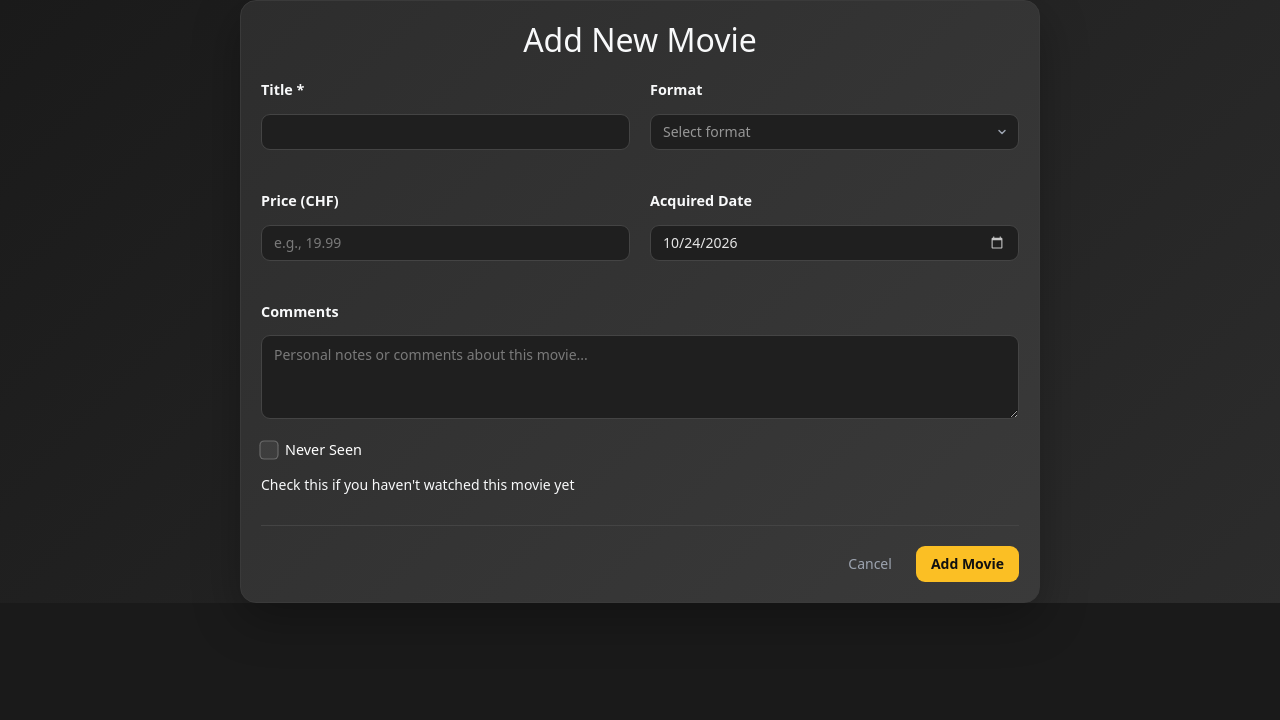
Test: MovieForm › should show error message on API failure
Type "Test Movie" into the field labelled "Title *" at (446, 132), box [261,114,630,150]
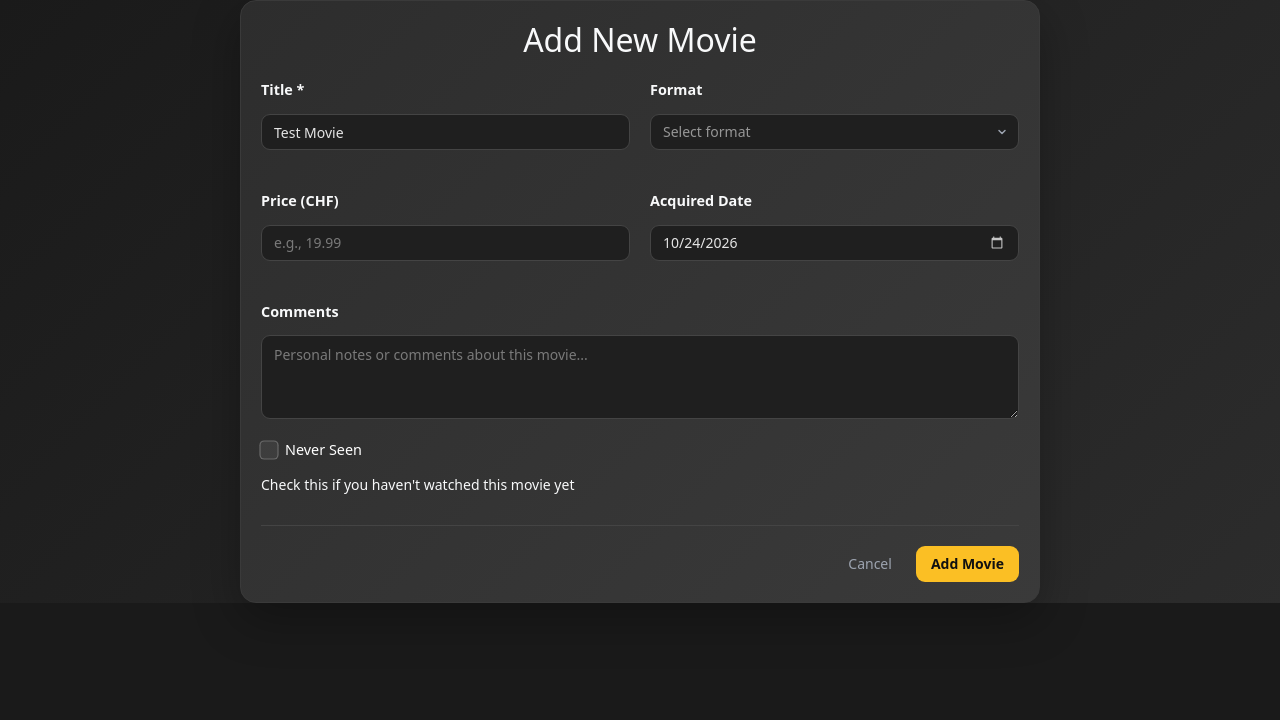
Click the button "Add Movie" at (967, 564), box [916,546,1019,582]
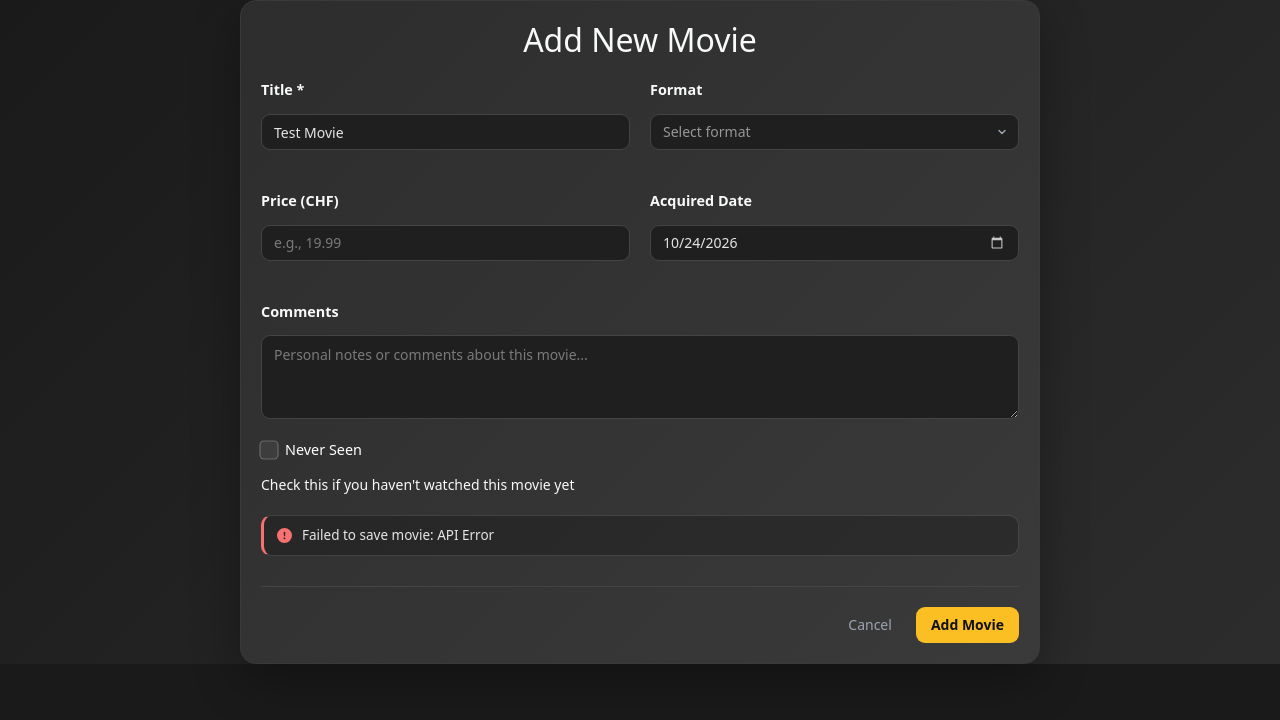
Expected: the text "Failed to save movie: API Error" is shown, [302,526,494,544]
